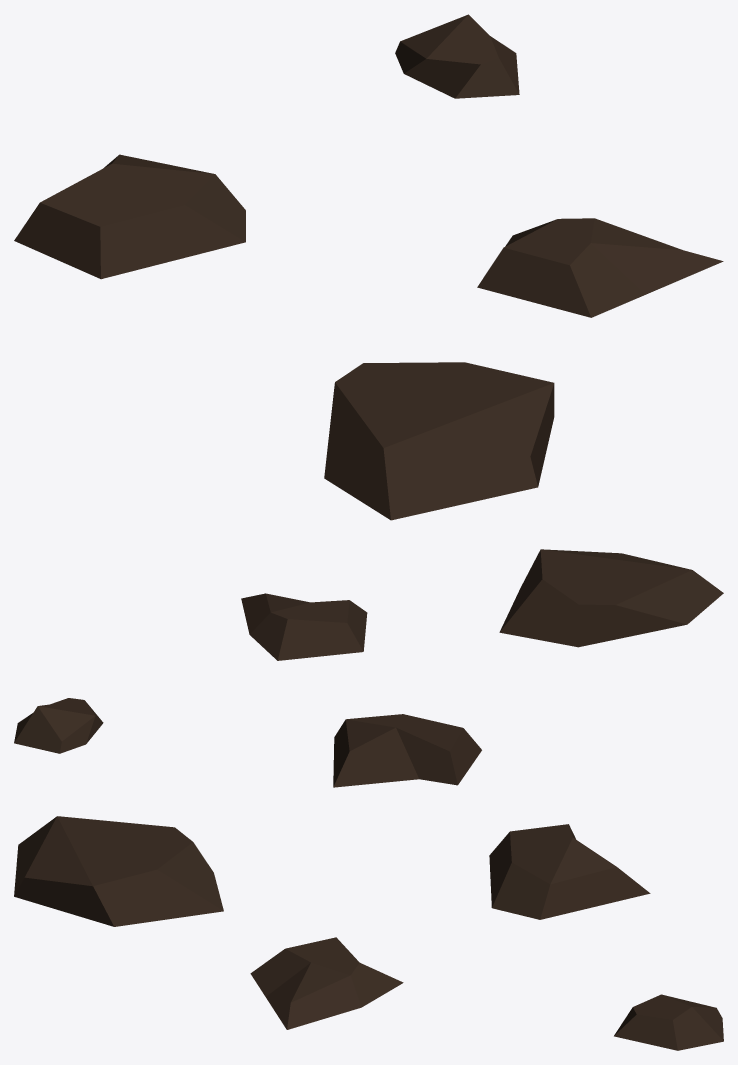
File: enchantedforest_stone_2.glb
3 renders of one model, top to bottom at view 1: azimuth 30°, elevation 25°; view 2: azimuth 150°, elevation 25°; view 3: azimuth 270°, elevation 25°, orthographic. The views are drawn at different scales.
Parts seen in each view (by area): view 1: Cylinder.008.1; view 2: Cylinder.008.1; view 3: Cylinder.008.1.
Boxes of the visible parts, x1,y1,x2,y2 form: Cylinder.008.1: [14, 14, 723, 520]; Cylinder.008.1: [14, 549, 723, 787]; Cylinder.008.1: [14, 816, 723, 1050].
Bounding box in the file's own units: 0.9405 × 0.0892 × 1.35.
